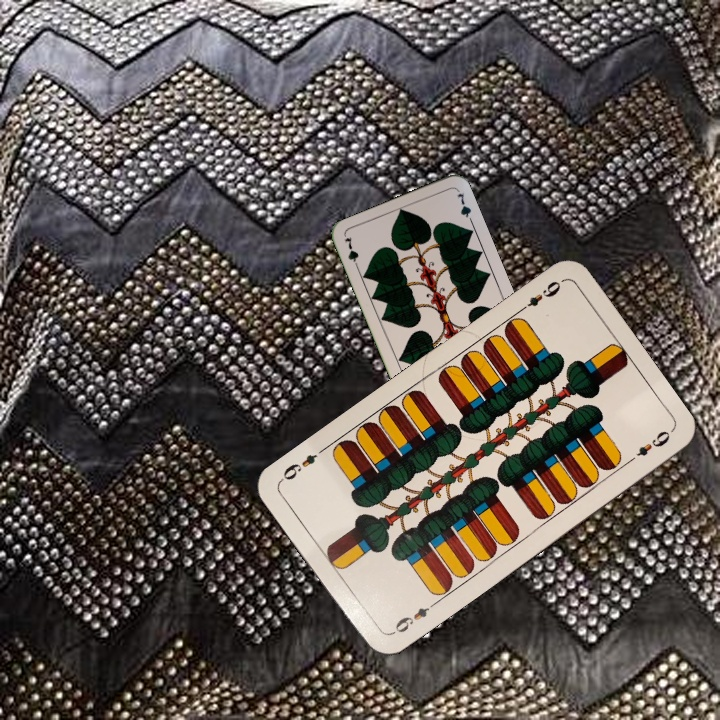E9: (386, 598, 438, 638), (514, 276, 564, 316)
G7: (340, 233, 362, 273)
